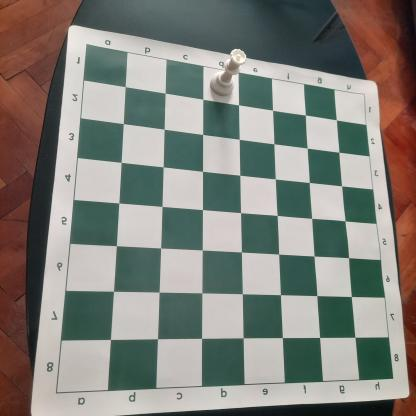white-queen: (209, 48, 248, 97)
